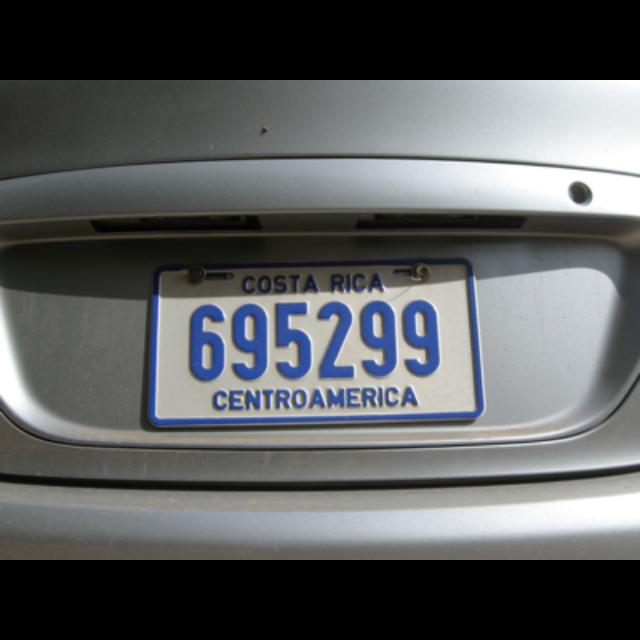carPlate: (146, 258, 486, 427)
